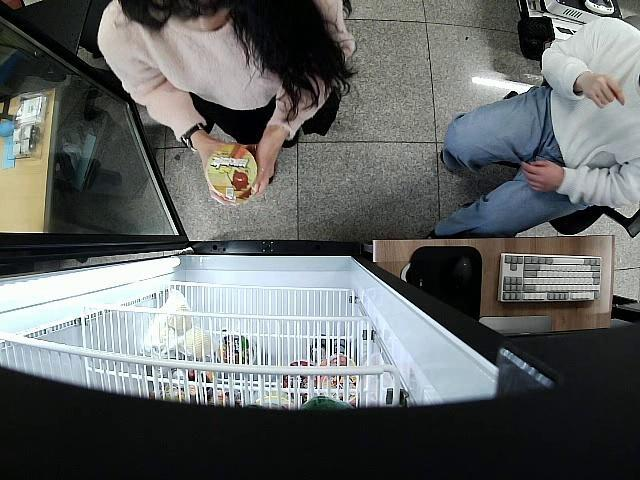04_chapagetti_S: (206, 140, 257, 196)
